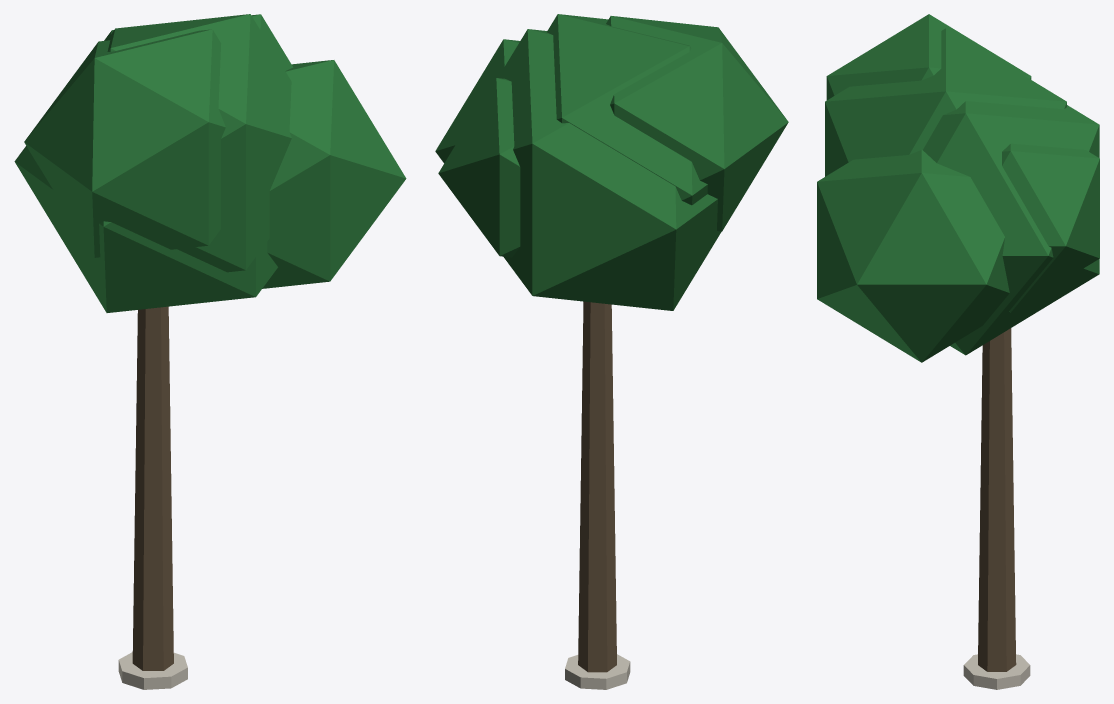
File: street_tree_b.glb
3 views of the same model, side by side, from view 1: azimuth 30°, elevation 25°; view 2: azimuth 150°, elevation 25°; view 3: azimuth 270°, elevation 25° (orthographic). The views are drawn at different scales.
Parts seen in each view (by area): view 1: tree; view 2: tree; view 3: tree.
Boxes of the visible parts, x1,y1,x2,y2 form: tree: (14,14,406,689); tree: (435,14,788,689); tree: (817,14,1099,689).
Size of the model in its own units: 5.49 by 11.31 by 4.69.
